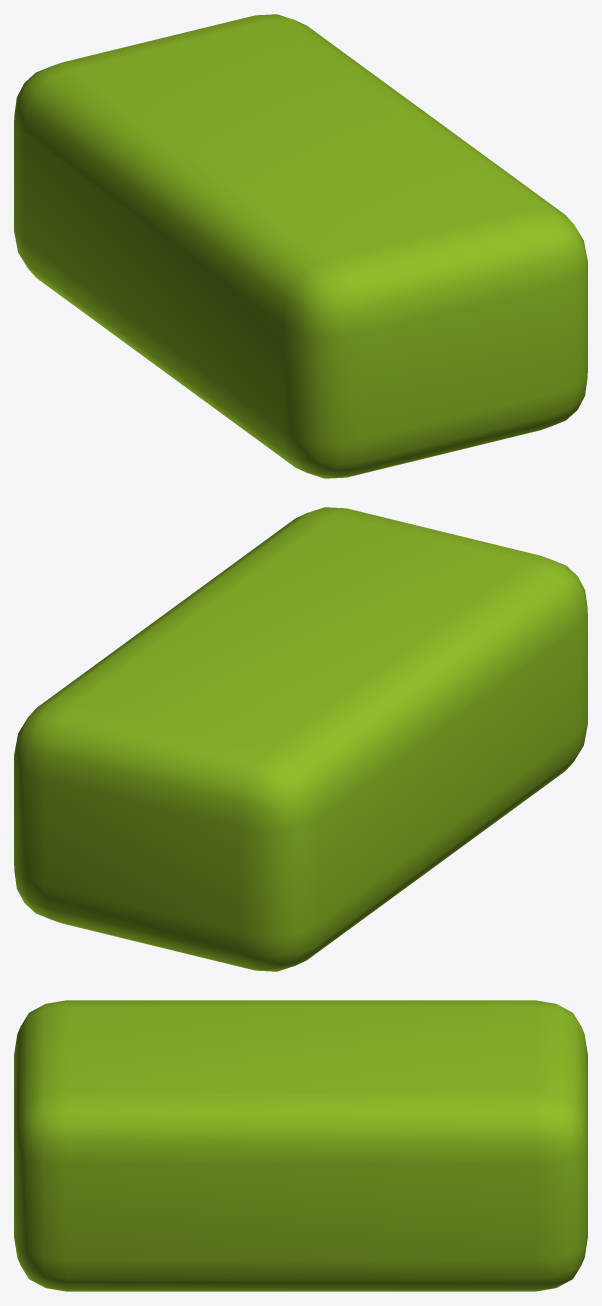
The model's file is ground_type_03.FBX.
3 views of the same model, one above another, from view 1: azimuth 30°, elevation 25°; view 2: azimuth 150°, elevation 25°; view 3: azimuth 270°, elevation 25° (orthographic). The views are drawn at different scales.
Parts seen in each view (by area): view 1: ground_type_03; view 2: ground_type_03; view 3: ground_type_03.
Boxes of the visible parts, x1=… form: ground_type_03: x1=14, y1=14, x2=587, y2=478; ground_type_03: x1=14, y1=507, x2=587, y2=971; ground_type_03: x1=14, y1=1000, x2=587, y2=1291.
Bounding box in the file's own units: 580 × 1080 × 400.
1 material, 1 textured.
